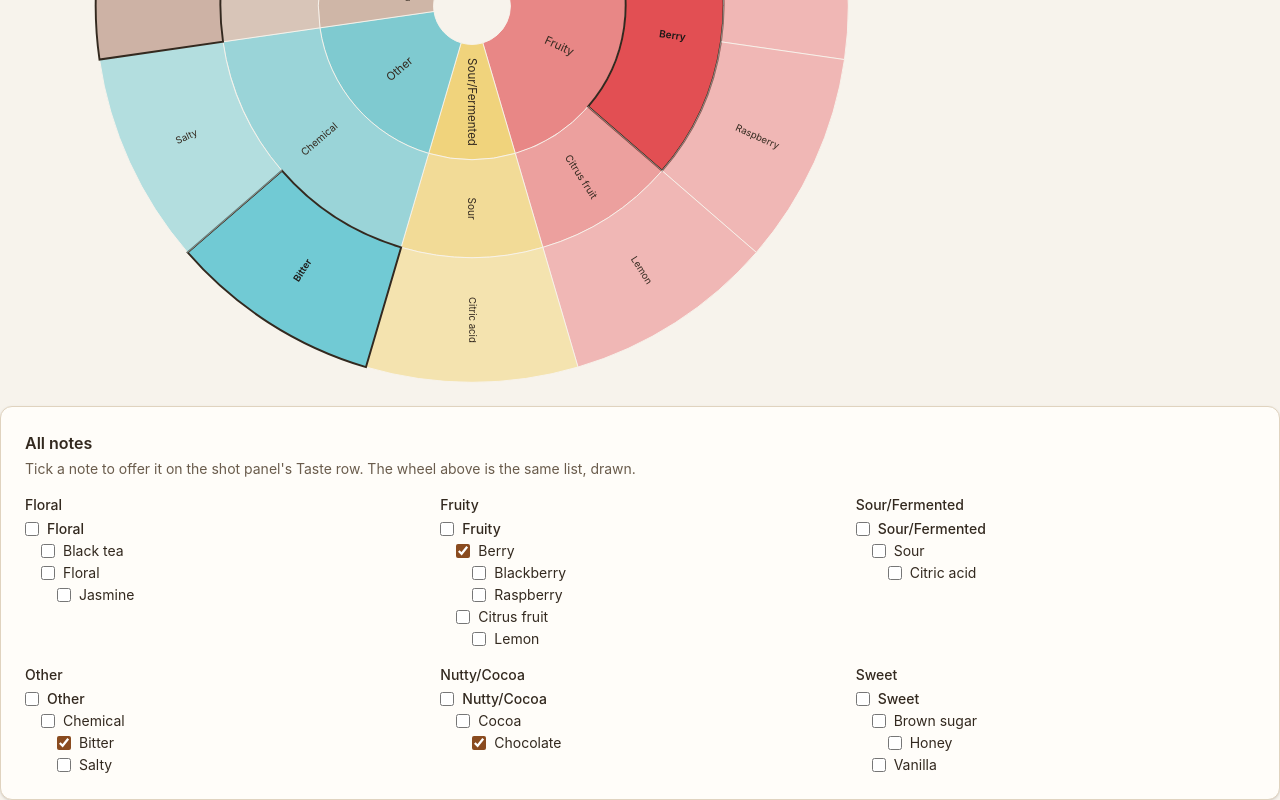
it: TasteWheelPage › saves a ticked note into its place on the list, leaving the other list alone
(page scrolled)
Expected: the element with test id "all-notes" is shown, x1=25 y1=496 x2=986 y2=773
Click the checkbox named "Sweet › Brown sugar › Honey". click: (895, 743)
box: x1=888 y1=736 x2=902 y2=750
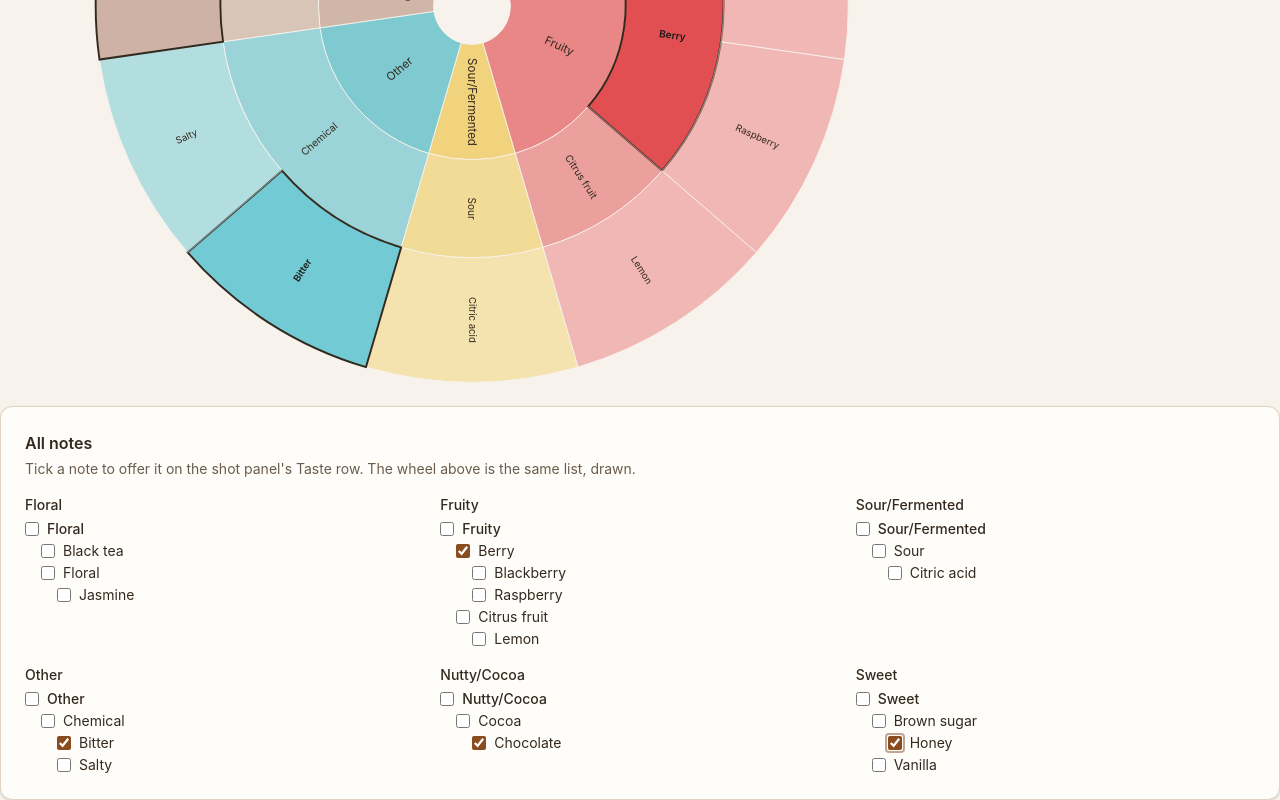
Click the checkbox named "Floral › Black tea". click: (48, 551)
box: x1=41 y1=544 x2=55 y2=558
(page scrolled)
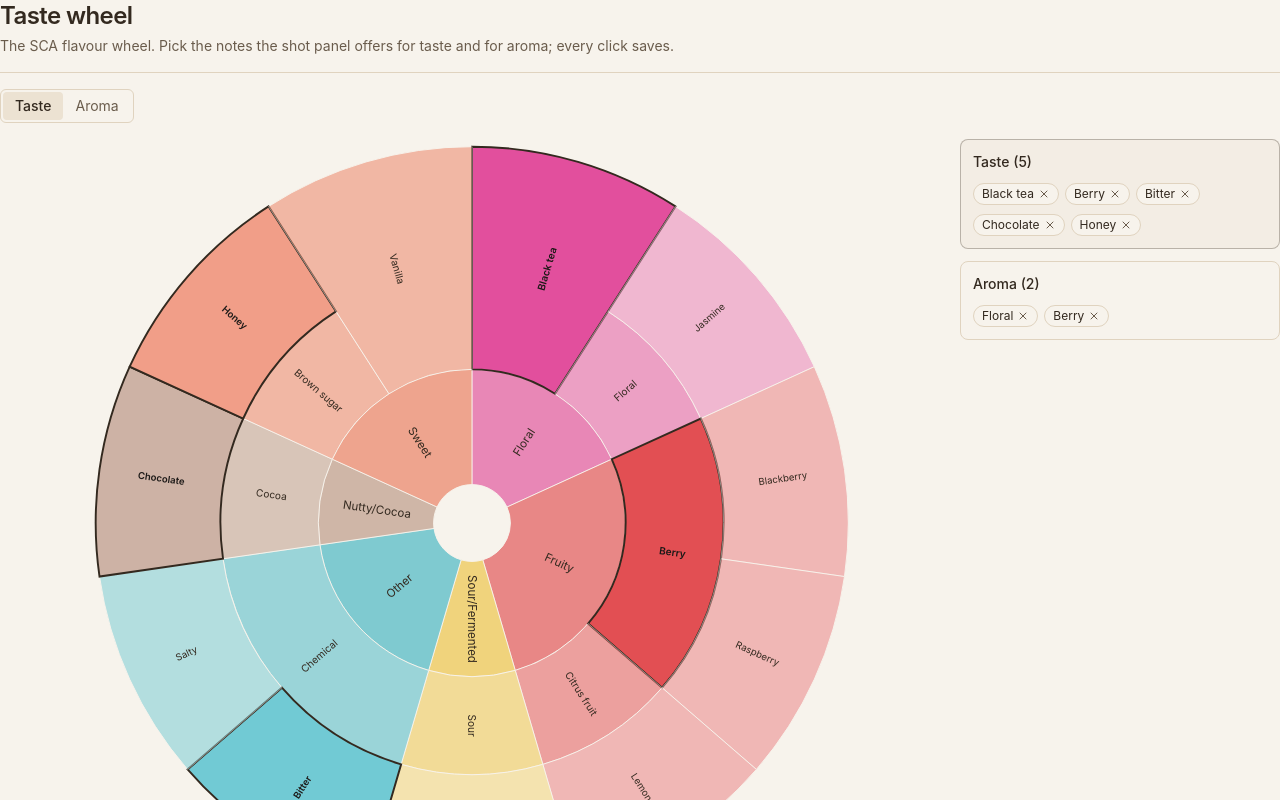
Now the heading "Taste (5)" is shown, box x1=973 y1=153 x2=1032 y2=170
